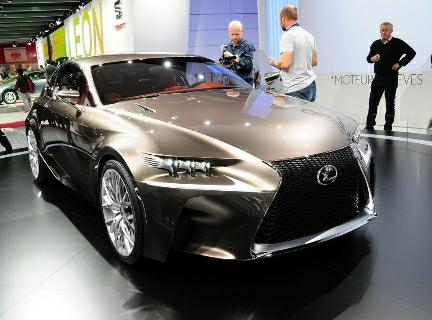car: (13, 47, 386, 278)
